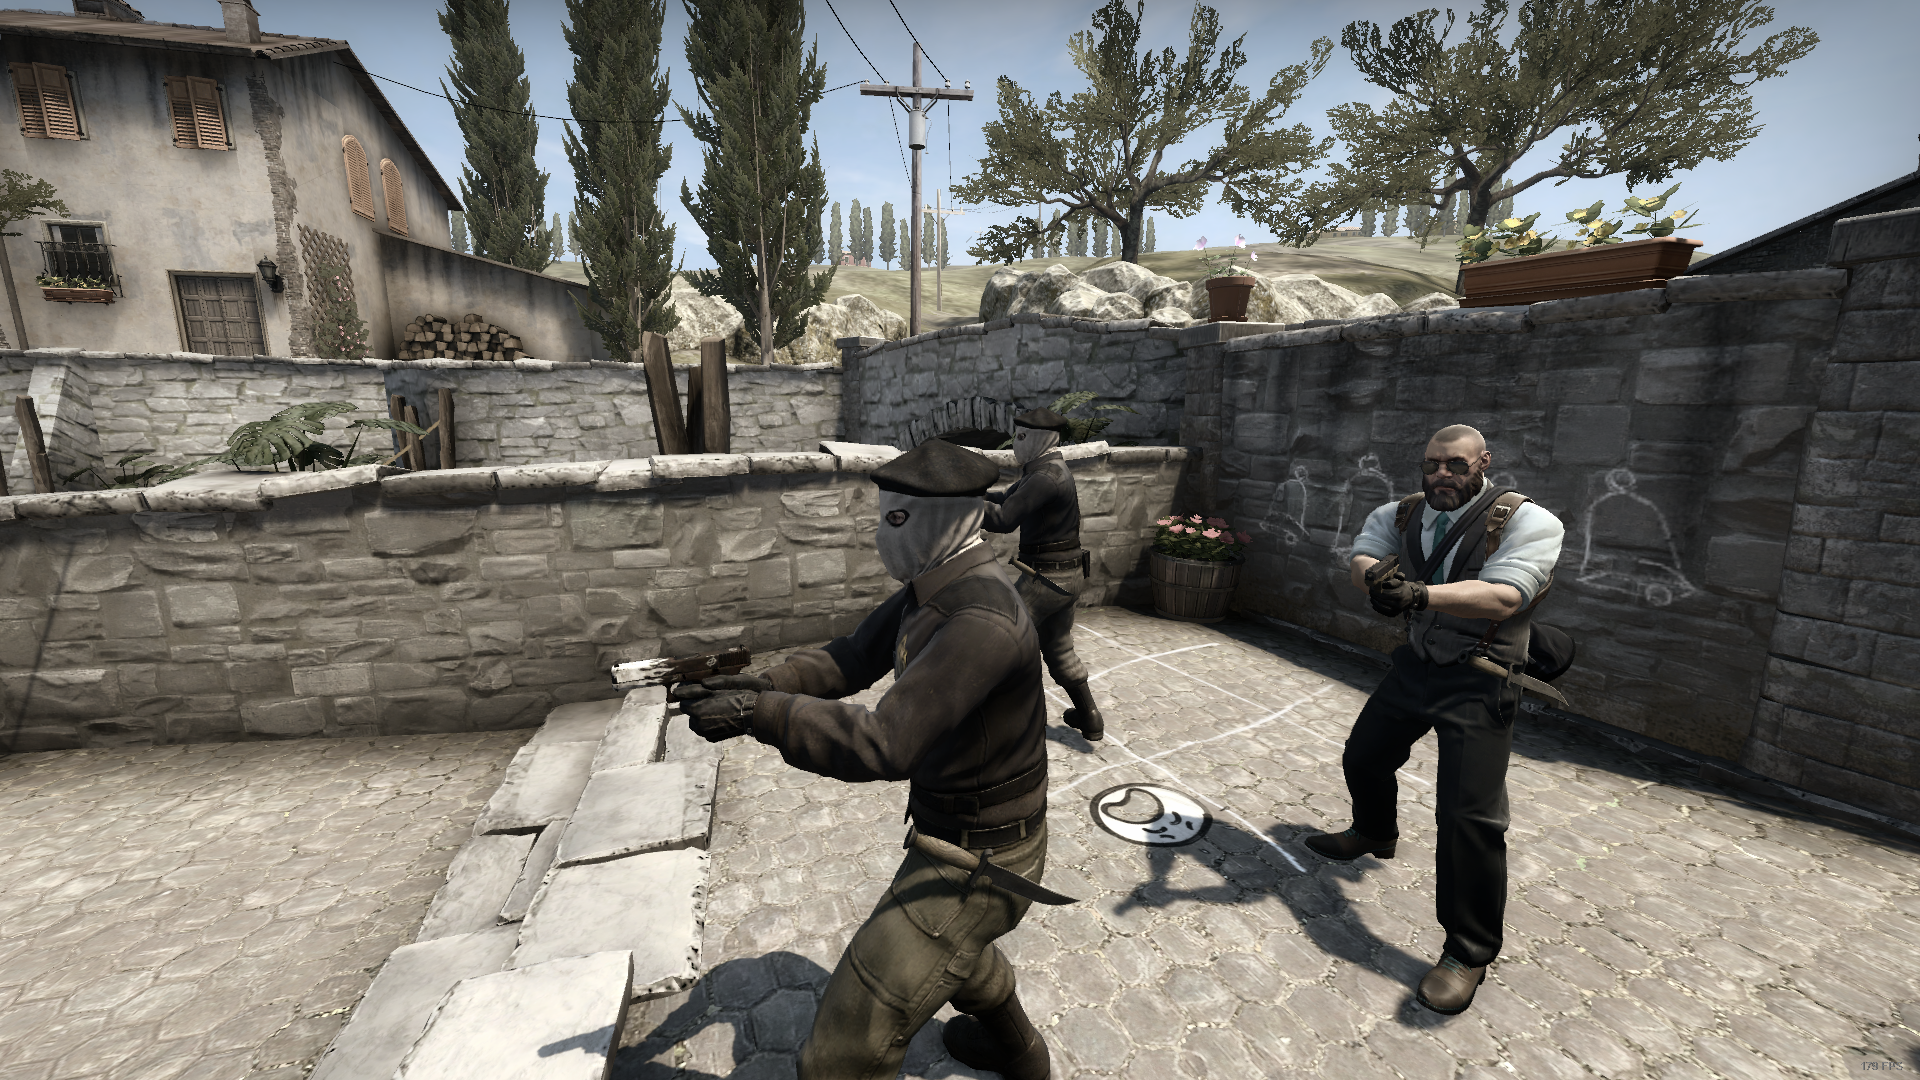t: (673, 440, 1050, 1080), (984, 410, 1104, 746)
